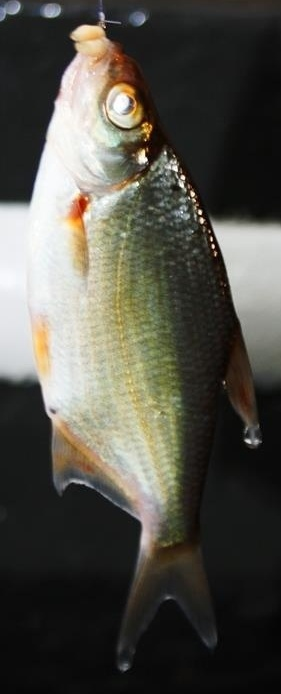Blicca bjoerkna: (20, 20, 261, 674)
